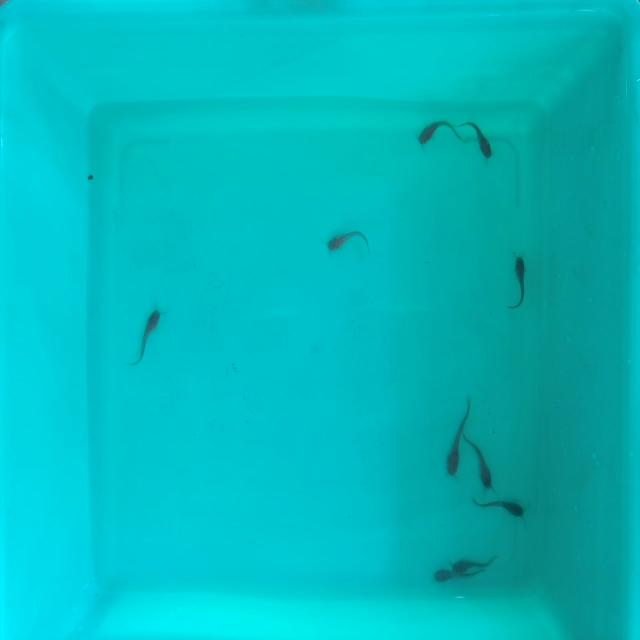lele: (127, 308, 160, 368), (444, 397, 468, 476), (457, 118, 496, 164), (469, 433, 498, 491), (470, 492, 528, 520), (415, 118, 468, 148), (508, 256, 526, 311), (449, 554, 498, 574), (326, 231, 370, 252), (432, 568, 457, 584)
